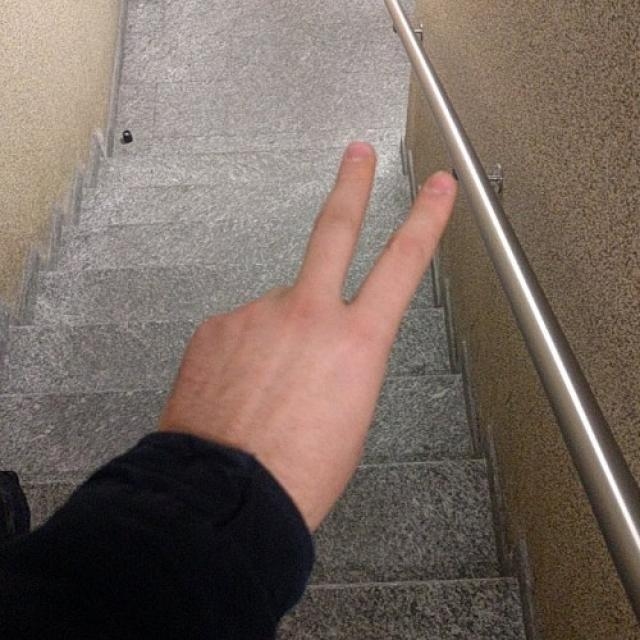scissors: (166, 135, 458, 468)
